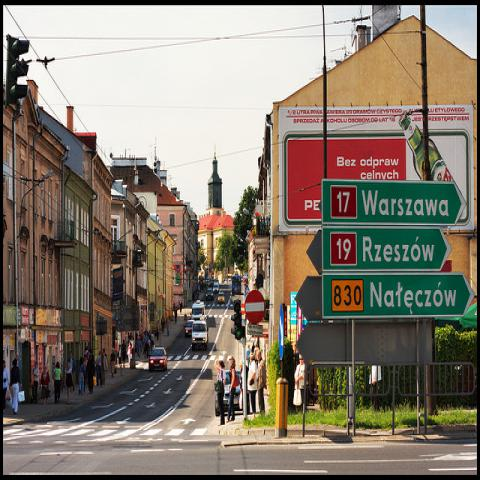car: (149, 347, 167, 372), (184, 321, 194, 337), (206, 289, 214, 300), (217, 292, 225, 303), (206, 278, 213, 287)
truck: (192, 320, 208, 350), (192, 301, 207, 322), (213, 282, 219, 292)
